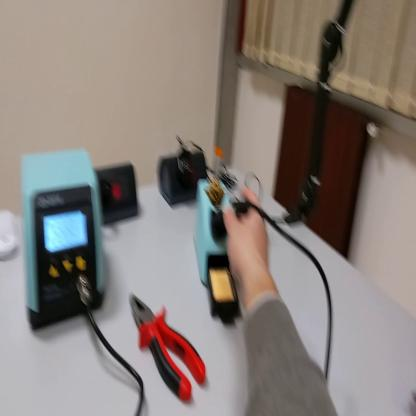hand: (223, 194, 273, 286)
pliers: (129, 291, 207, 402)
socket: (158, 147, 208, 210), (95, 163, 139, 227)
welder base: (194, 177, 253, 322)
welder probe tip: (224, 206, 270, 244)
welder station: (21, 147, 107, 333)
